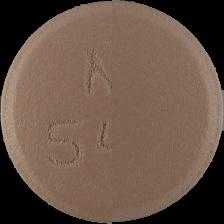0615-5527: (0, 0, 224, 224)
